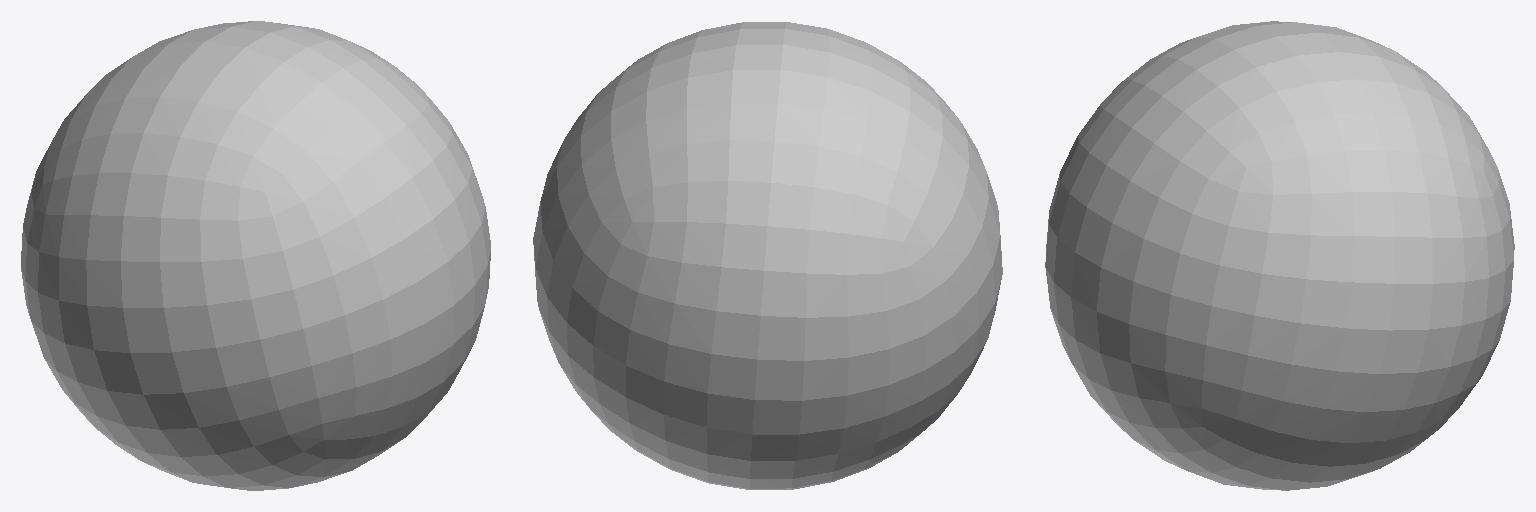
The model's file is Venus_1K.obj.
3 views of the same model, side by side, from view 1: azimuth 30°, elevation 25°; view 2: azimuth 150°, elevation 25°; view 3: azimuth 270°, elevation 25° (orthographic).
Parts seen in each view (by area): view 1: Atmosphere; view 2: Atmosphere; view 3: Atmosphere.
Boxes of the visible parts, <box> form: Atmosphere: <box>21,21,490,490</box>; Atmosphere: <box>533,22,1002,489</box>; Atmosphere: <box>1045,21,1514,490</box>.
Bounding box in the file's own units: 1.21 × 1.21 × 1.21.